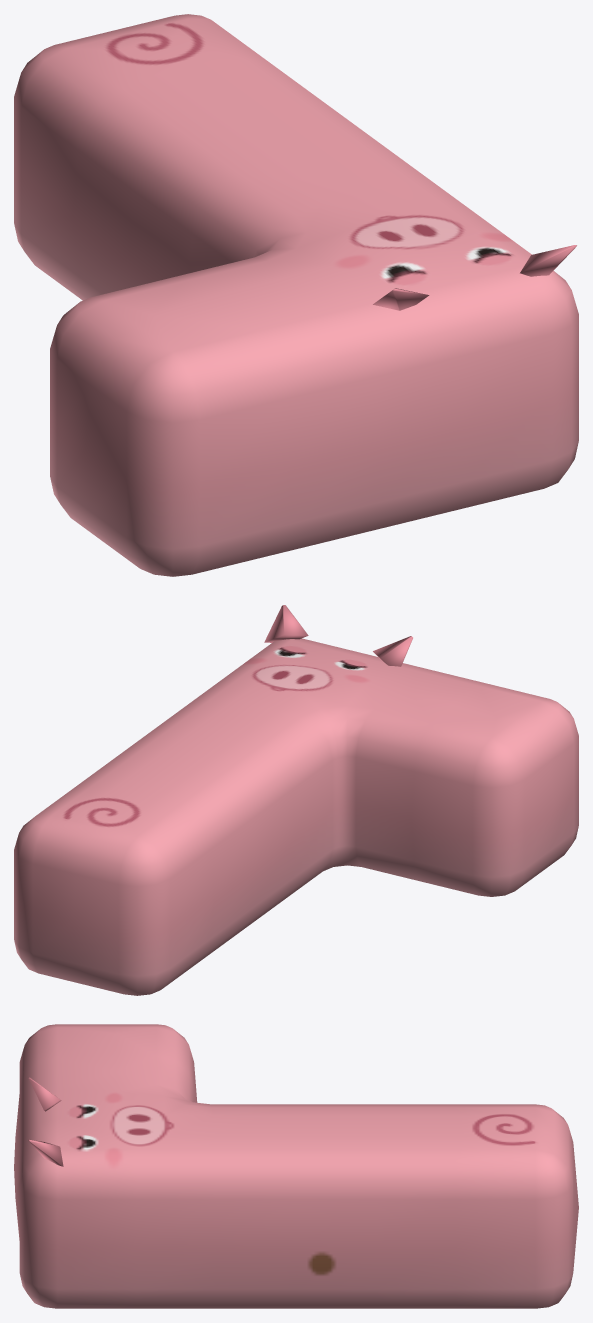
Rendered from Pig_LMirror.fbx.
3 renders of one model, top to bottom at view 1: azimuth 30°, elevation 25°; view 2: azimuth 150°, elevation 25°; view 3: azimuth 270°, elevation 25°, orthographic. The views are drawn at different scales.
Parts seen in each view (by area): view 1: Pig_LMirror; view 2: Pig_LMirror; view 3: Pig_LMirror.
Part boxes in pixels (box(x1,y1,x2,y2)): Pig_LMirror: box(14, 14, 578, 576); Pig_LMirror: box(14, 605, 578, 995); Pig_LMirror: box(14, 1024, 578, 1308).
Size of the model in its own units: 1.98 by 0.9771 by 2.98.
1 material, 1 textured.
